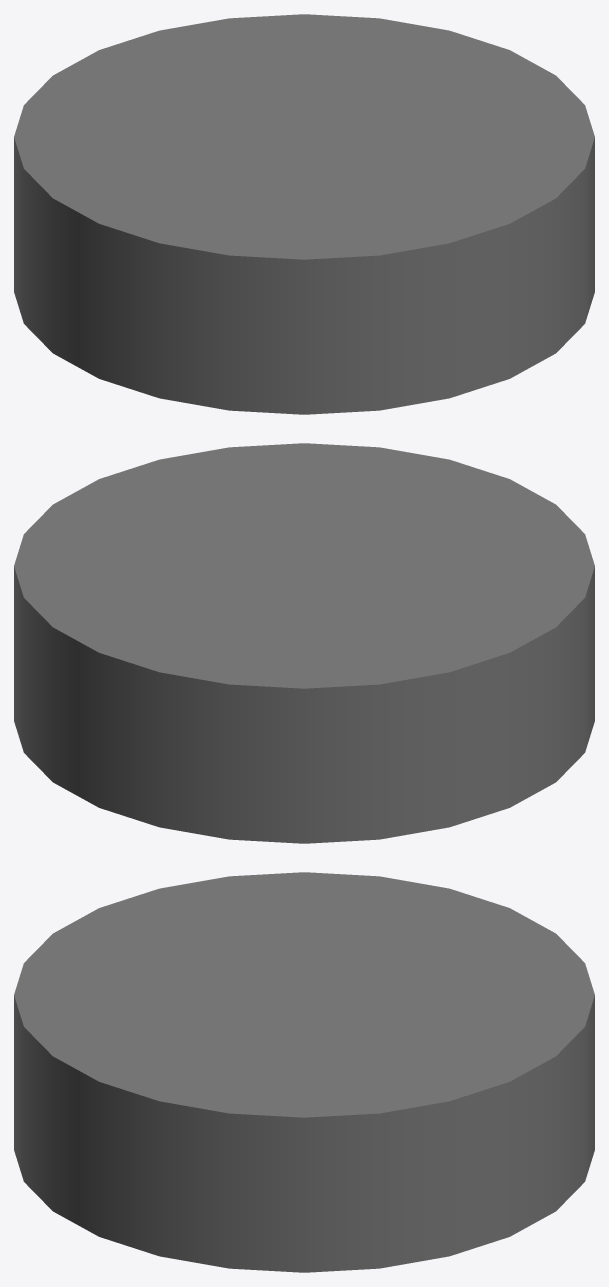
File: Hockey Puck Black.fbx
3 views of the same model, one above another, from view 1: azimuth 30°, elevation 25°; view 2: azimuth 150°, elevation 25°; view 3: azimuth 270°, elevation 25° (orthographic).
Visible parts, largest first — view 1: Hockey Puck Black; view 2: Hockey Puck Black; view 3: Hockey Puck Black.
Boxes of the visible parts, x1,y1,x2,y2 form: Hockey Puck Black: (14, 14, 594, 414); Hockey Puck Black: (14, 443, 594, 843); Hockey Puck Black: (14, 872, 594, 1272).
Bounding box in the file's own units: 0.439 × 0.1293 × 0.439.
